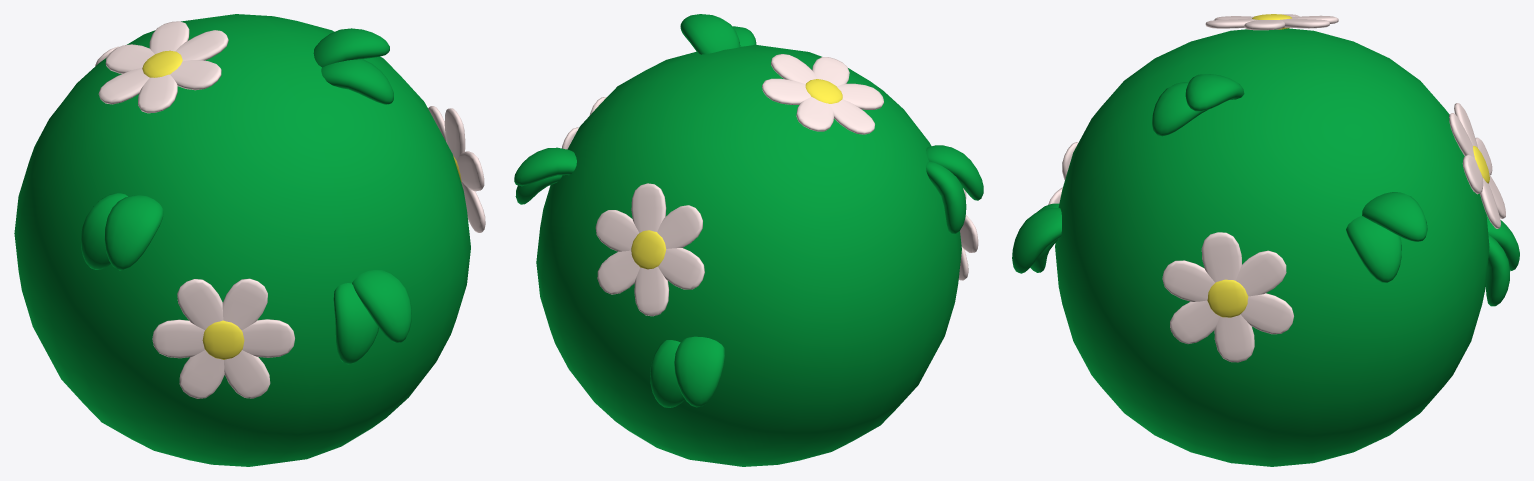
File: Town_12_Bush_3.glb
3 renders of one model, left to right at view 1: azimuth 30°, elevation 25°; view 2: azimuth 150°, elevation 25°; view 3: azimuth 270°, elevation 25°, orthographic. The views are drawn at different scales.
Parts seen in each view (by area): view 1: Town_12_Bush_3; view 2: Town_12_Bush_3; view 3: Town_12_Bush_3.
Part boxes in pixels (<box>): Town_12_Bush_3: <box>14,14,485,466</box>; Town_12_Bush_3: <box>514,14,983,466</box>; Town_12_Bush_3: <box>1012,14,1519,466</box>.
Bounding box in the file's own units: 1.31 × 1.33 × 1.5.
1 material, 1 textured.
